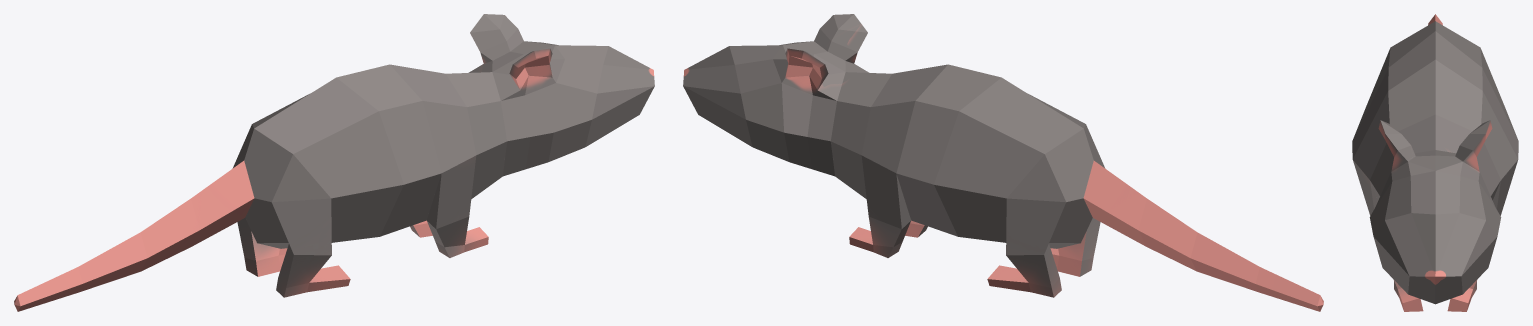
File: SM_ratStand_Manley.fbx
3 views of the same model, side by side, from view 1: azimuth 30°, elevation 25°; view 2: azimuth 150°, elevation 25°; view 3: azimuth 270°, elevation 25° (orthographic). The views are drawn at different scales.
Parts seen in each view (by area): view 1: Rat_Stand; view 2: Rat_Stand; view 3: Rat_Stand.
Part boxes in pixels (left/top/right/bottom): Rat_Stand: left=14, top=14, right=654, bottom=311; Rat_Stand: left=683, top=14, right=1323, bottom=311; Rat_Stand: left=1352, top=14, right=1518, bottom=311.
Size of the model in its own units: 36.02 by 10.39 by 7.44.
Materials: 1 (1 with a texture image).
